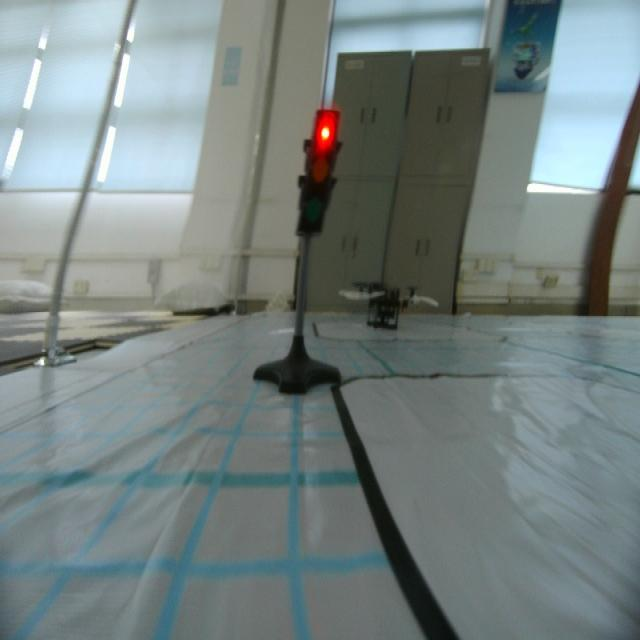red: (296, 100, 341, 240)
